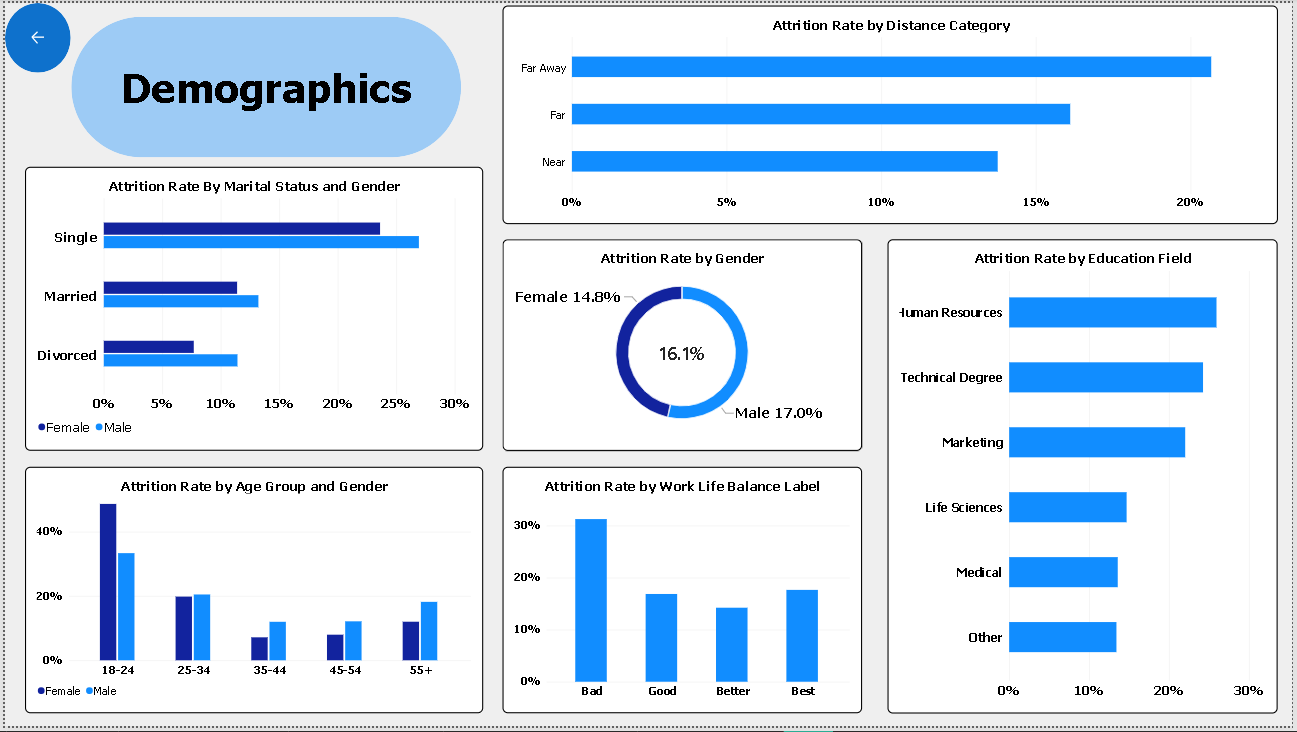

Layout of this report page (visuals, bound fields, positions):
{"tool":"powerbi","page":{"name":"Demographics","canvas":[1920,1080],"ordinal":2},"visuals":[{"type":"barChart","title":"Attrition Rate by Education Field","fields":{"Category":["Dim_EducationField.EducationField"],"Y":["_MeasureList.Attrition Rate"]},"box":[1318,352.8,582.2,707.7],"z":0},{"type":"donutChart","title":"Attrition Rate by Gender","fields":{"Category":["Dim_Demographics.Gender"],"Y":["_MeasureList.Attrition Rate"]},"box":[742.3,352.8,536.7,316],"z":1000},{"type":"clusteredColumnChart","title":"Attrition Rate by Age Group and Gender","fields":{"Category":["Dim_Demographics.AgeGroup"],"Series":["Dim_Demographics.Gender"],"Y":["_MeasureList.Attrition Rate"]},"box":[30.3,692.5,683.9,367.9],"z":2000},{"type":"columnChart","title":"Attrition Rate  by Work Life Balance Label","fields":{"Category":["Fact_Employee.WorkLifeBalanceLabel"],"Y":["_MeasureList.Attrition Rate"]},"box":[742.3,692.5,536.7,367.9],"z":3000},{"type":"clusteredBarChart","title":"Attrition Rate By Marital Status and Gender","fields":{"Category":["Dim_Demographics.MaritalStatus"],"Series":["Dim_Demographics.Gender"],"Y":["_MeasureList.Attrition Rate"]},"box":[30.3,244.5,683.9,424.2],"z":4000},{"type":"shape","box":[98,20,582,210],"z":5000},{"type":"barChart","title":"Attrition Rate by Distance Category","fields":{"Category":["Fact_Employee.DistanceCategory"],"Y":["_MeasureList.Attrition Rate"]},"box":[742.3,4.3,1157.8,326.8],"z":6000},{"type":"actionButton","box":[0,0,98,104],"z":7000}]}

Visuals, with their boxes in screenshot pixels (x1, y1, x2, y2), scaled from the page's 1920x1080 canvas onto the 1297x732 screenshot:
"Attrition Rate by Education Field" barChart: {"x1": 890, "y1": 239, "x2": 1284, "y2": 719}
"Attrition Rate by Gender" donutChart: {"x1": 501, "y1": 239, "x2": 864, "y2": 453}
"Attrition Rate by Age Group and Gender" clusteredColumnChart: {"x1": 20, "y1": 469, "x2": 482, "y2": 719}
"Attrition Rate  by Work Life Balance Label" columnChart: {"x1": 501, "y1": 469, "x2": 864, "y2": 719}
"Attrition Rate By Marital Status and Gender" clusteredBarChart: {"x1": 20, "y1": 166, "x2": 482, "y2": 453}
shape: {"x1": 66, "y1": 14, "x2": 459, "y2": 156}
"Attrition Rate by Distance Category" barChart: {"x1": 501, "y1": 3, "x2": 1284, "y2": 224}
actionButton: {"x1": 0, "y1": 0, "x2": 66, "y2": 70}
